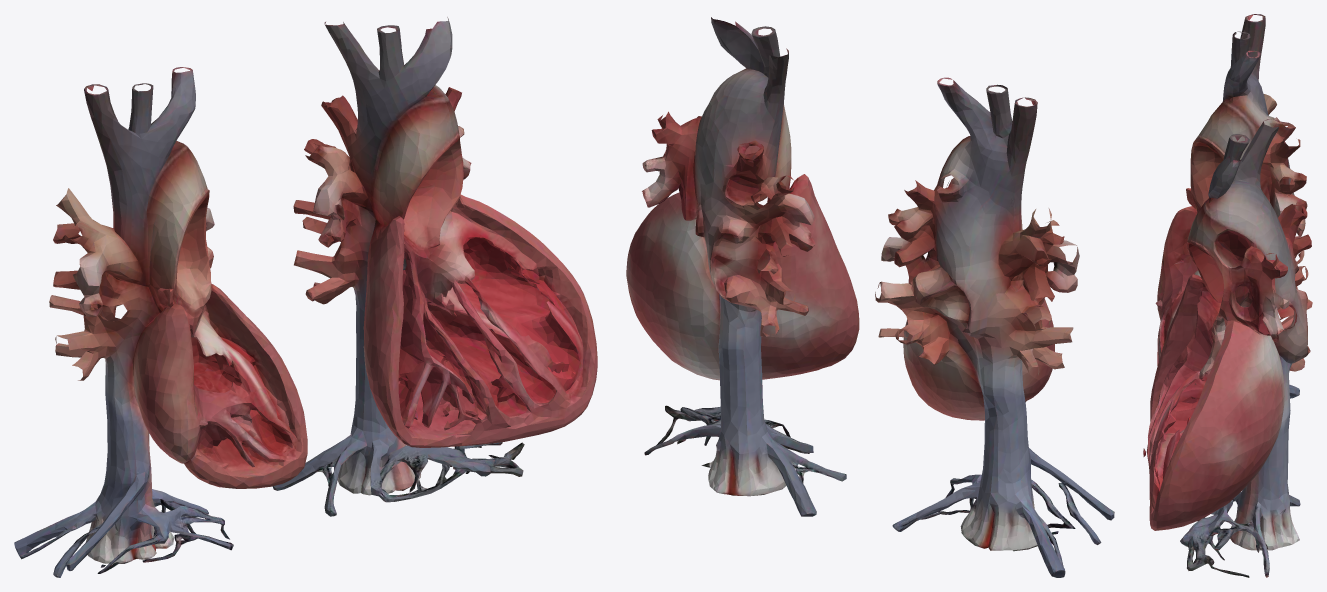
File: heart-failure.glb
3 views of the same model, side by side, from view 1: azimuth 30°, elevation 25°; view 2: azimuth 150°, elevation 25°; view 3: azimuth 270°, elevation 25° (orthographic). The views are drawn at different scales.
Parts seen in each view (by area): view 1: HeartFailure; view 2: HeartFailure; view 3: HeartFailure.
Boxes of the visible parts, <box> form: HeartFailure: <box>14,17,597,577</box>; HeartFailure: <box>626,17,1114,577</box>; HeartFailure: <box>1143,14,1312,577</box>.
Size of the model in its own units: 1 by 0.8818 by 0.3346.
Materials: 1 (1 with a texture image).
